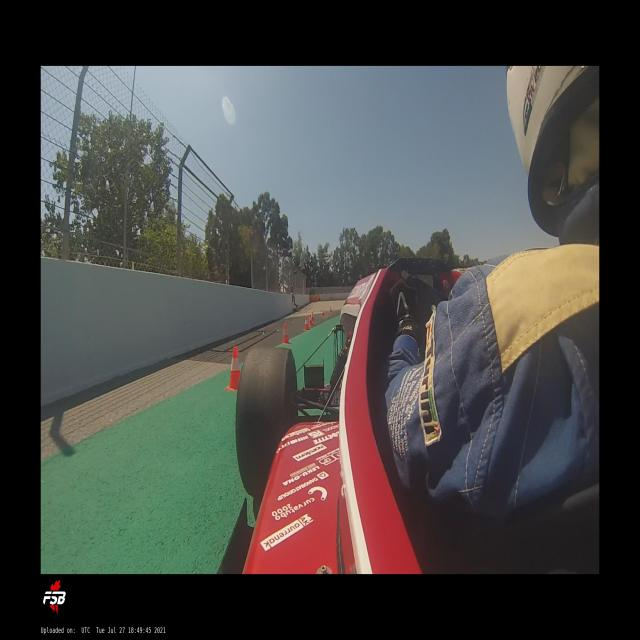orange_cone: (225, 347, 240, 390), (281, 324, 290, 344), (303, 316, 310, 331), (308, 316, 313, 327), (321, 308, 325, 317), (329, 306, 333, 313), (311, 312, 314, 321)
